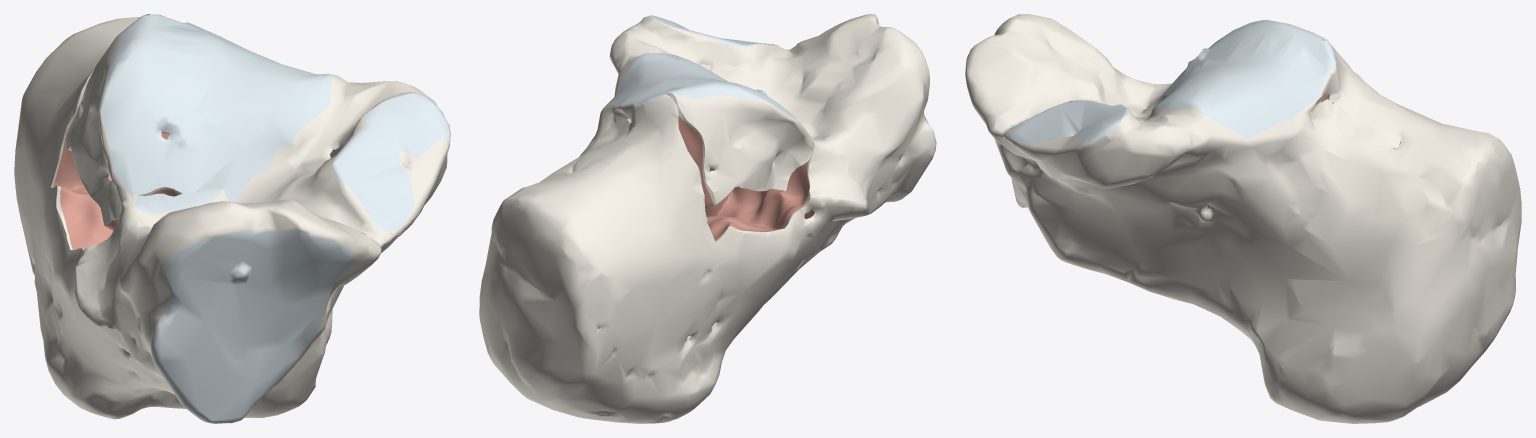
Rendered from 82C1_elderly.glb.
3 views of the same model, side by side, from view 1: azimuth 30°, elevation 25°; view 2: azimuth 150°, elevation 25°; view 3: azimuth 270°, elevation 25° (orthographic). The views are drawn at different scales.
Parts seen in each view (by area): view 1: calcaneus: sustentacular fragment, calcaneus: tuberosity, calcaneus: depressed lateral column; view 2: calcaneus: tuberosity, calcaneus: sustentacular fragment, calcaneus: depressed lateral column; view 3: calcaneus: sustentacular fragment, calcaneus: tuberosity, calcaneus: depressed lateral column.
Boxes of the visible parts, x1=… form: calcaneus: sustentacular fragment: x1=99, y1=17, x2=450, y2=423; calcaneus: tuberosity: x1=14, y1=14, x2=332, y2=419; calcaneus: depressed lateral column: x1=66, y1=15, x2=222, y2=230; calcaneus: tuberosity: x1=479, y1=93, x2=867, y2=423; calcaneus: sustentacular fragment: x1=588, y1=14, x2=936, y2=328; calcaneus: depressed lateral column: x1=656, y1=78, x2=812, y2=208; calcaneus: sustentacular fragment: x1=965, y1=14, x2=1340, y2=402; calcaneus: tuberosity: x1=1135, y1=39, x2=1521, y2=423; calcaneus: depressed lateral column: x1=1162, y1=20, x2=1330, y2=101.
Size of the model in its own units: 0.0475 by 0.0513 by 0.0757.
